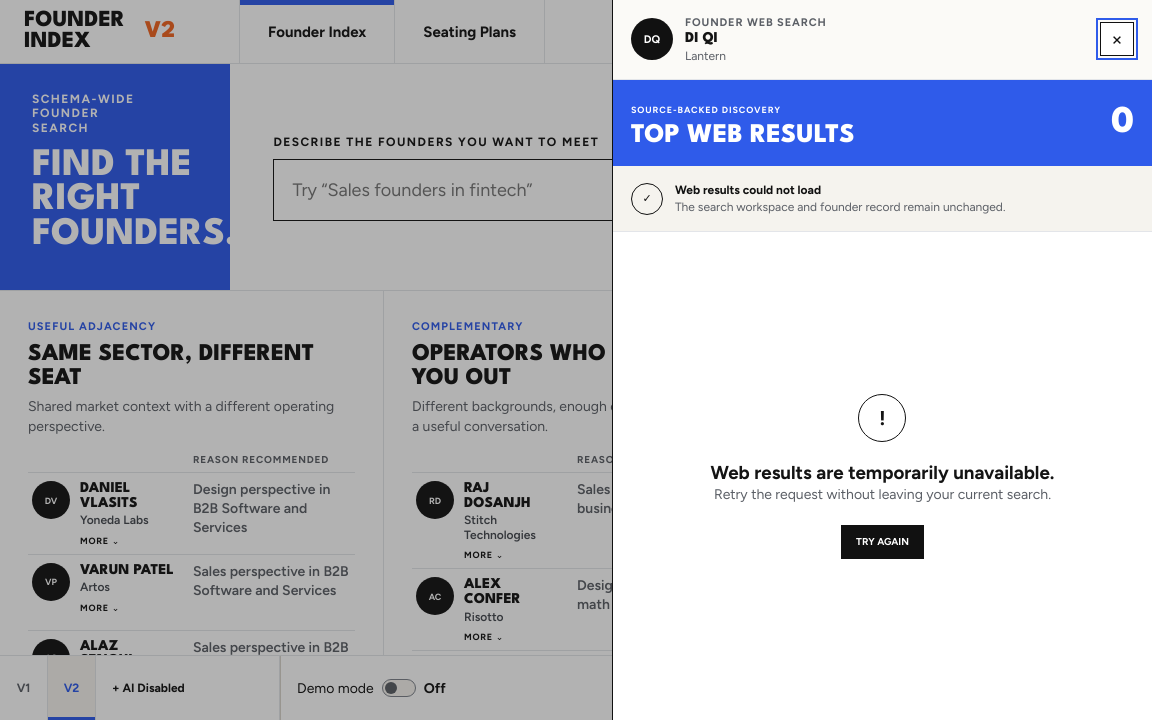
Test case: V2App routing › keeps Search available and retries inside the drawer when evidence loading fails
Expected: the heading "Find the right founders." is shown, x1=32 y1=149 x2=198 y2=252
Click the button "Try again" at (883, 542), box x1=841 y1=524 x2=924 y2=558
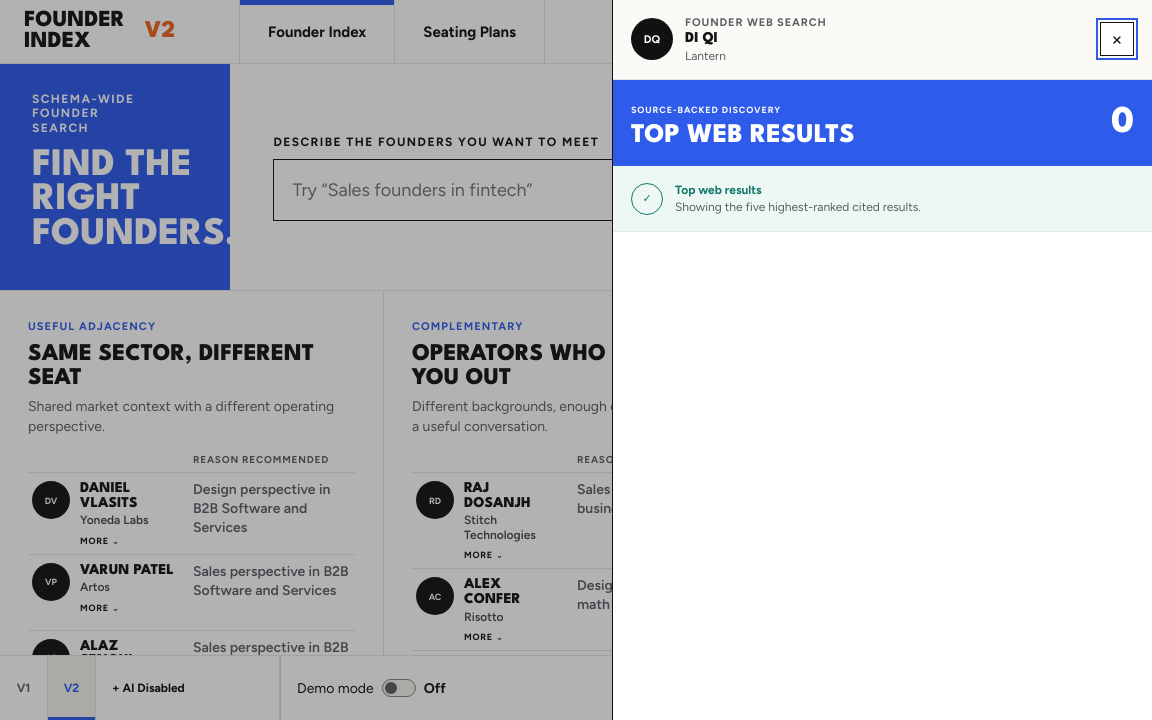
Result: the text "Showing the five highest-ranked cited results." is shown at x1=675 y1=200 x2=921 y2=214
